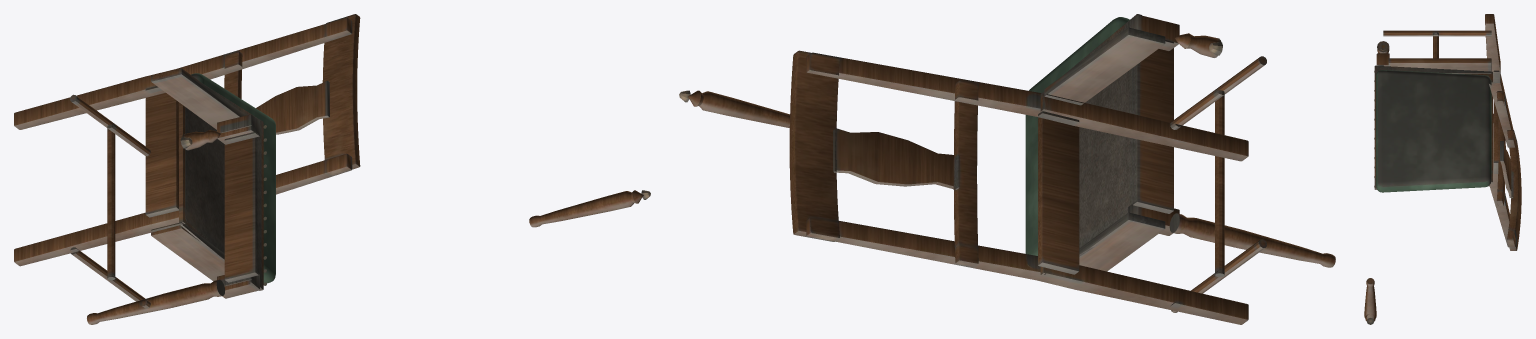
The model's file is cadeira_quebrada.glb.
3 views of the same model, side by side, from view 1: azimuth 30°, elevation 25°; view 2: azimuth 150°, elevation 25°; view 3: azimuth 270°, elevation 25° (orthographic). The views are drawn at different scales.
Parts seen in each view (by area): view 1: cadeira; view 2: cadeira; view 3: cadeira.
Boxes of the visible parts, box(x1,y1,x2,y2) form: cadeira: box(14, 14, 650, 324); cadeira: box(679, 14, 1335, 324); cadeira: box(1364, 14, 1521, 324).
Bounding box in the file's own units: 1.43 × 0.4232 × 0.4811.
Materials: 1 (1 with a texture image).
